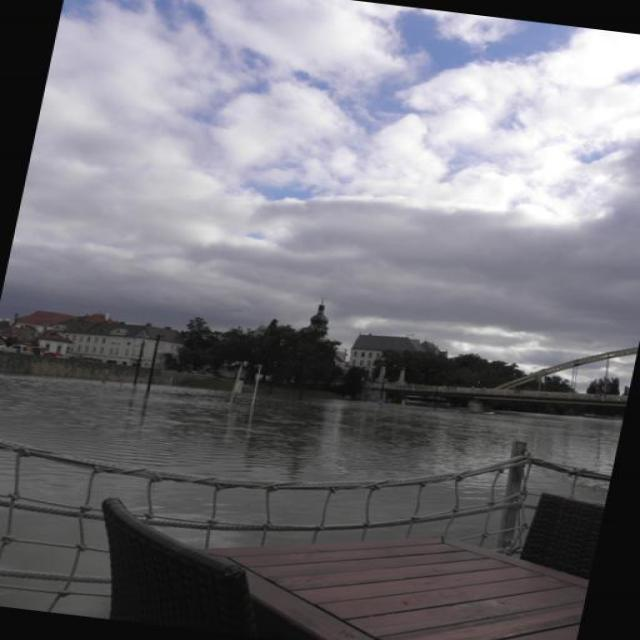flood: (0, 349, 622, 520)
